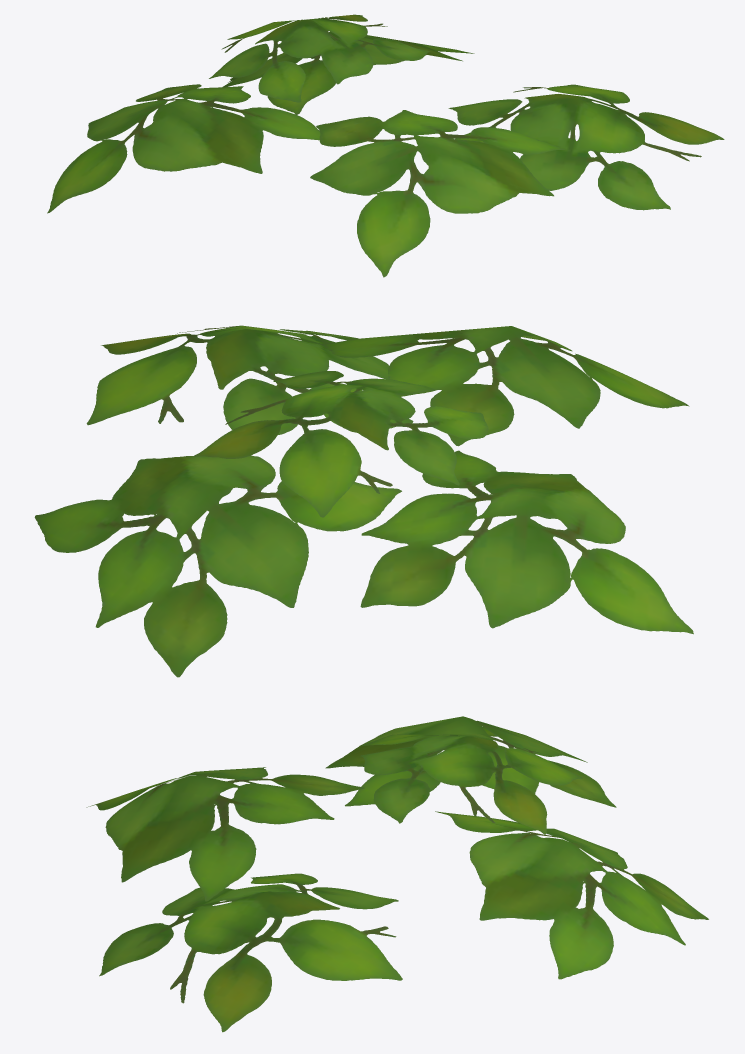
File: map_112_guanmu_5.fbx
The picture shows the model from 3 angles, top to bottom: view 1: azimuth 30°, elevation 25°; view 2: azimuth 150°, elevation 25°; view 3: azimuth 270°, elevation 25°; orthographic projection. The views are drawn at different scales.
Visible parts, largest first — view 1: map_112_guanmu_5; view 2: map_112_guanmu_5; view 3: map_112_guanmu_5.
Boxes of the visible parts, x1,y1,x2,y2 form: map_112_guanmu_5: [47, 14, 724, 277]; map_112_guanmu_5: [34, 325, 693, 677]; map_112_guanmu_5: [86, 716, 708, 1032].
Size of the model in its own units: 1.5 by 0.3732 by 1.4.
